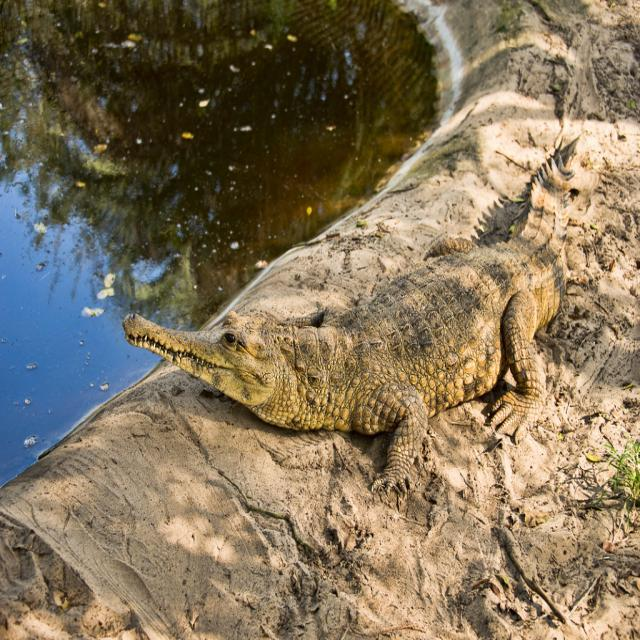crocodile: (124, 136, 586, 503)
